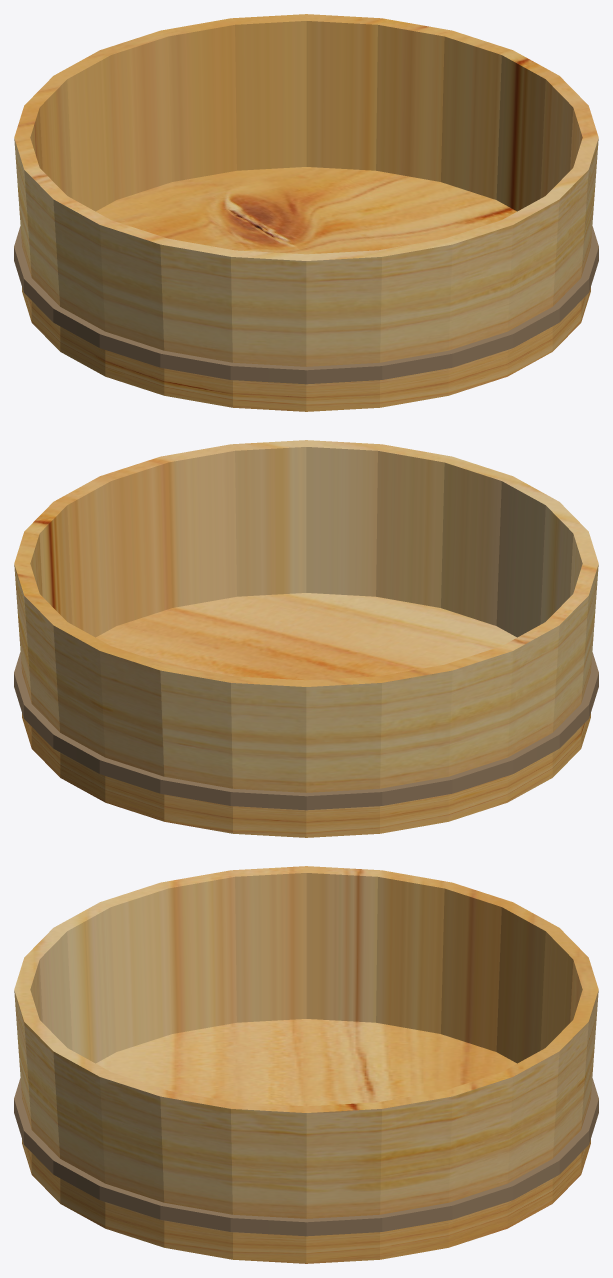
Rendered from sushi-oke(syari×).fbx.
3 views of the same model, one above another, from view 1: azimuth 30°, elevation 25°; view 2: azimuth 150°, elevation 25°; view 3: azimuth 270°, elevation 25° (orthographic).
Visible parts, largest first — view 1: 円柱; view 2: 円柱; view 3: 円柱.
Part boxes in pixels (box(x1,y1,x2,y2)): 円柱: box(14, 14, 598, 411); 円柱: box(14, 440, 598, 837); 円柱: box(14, 866, 598, 1263).
Size of the model in its own units: 98.72 by 28.7 by 98.72.
